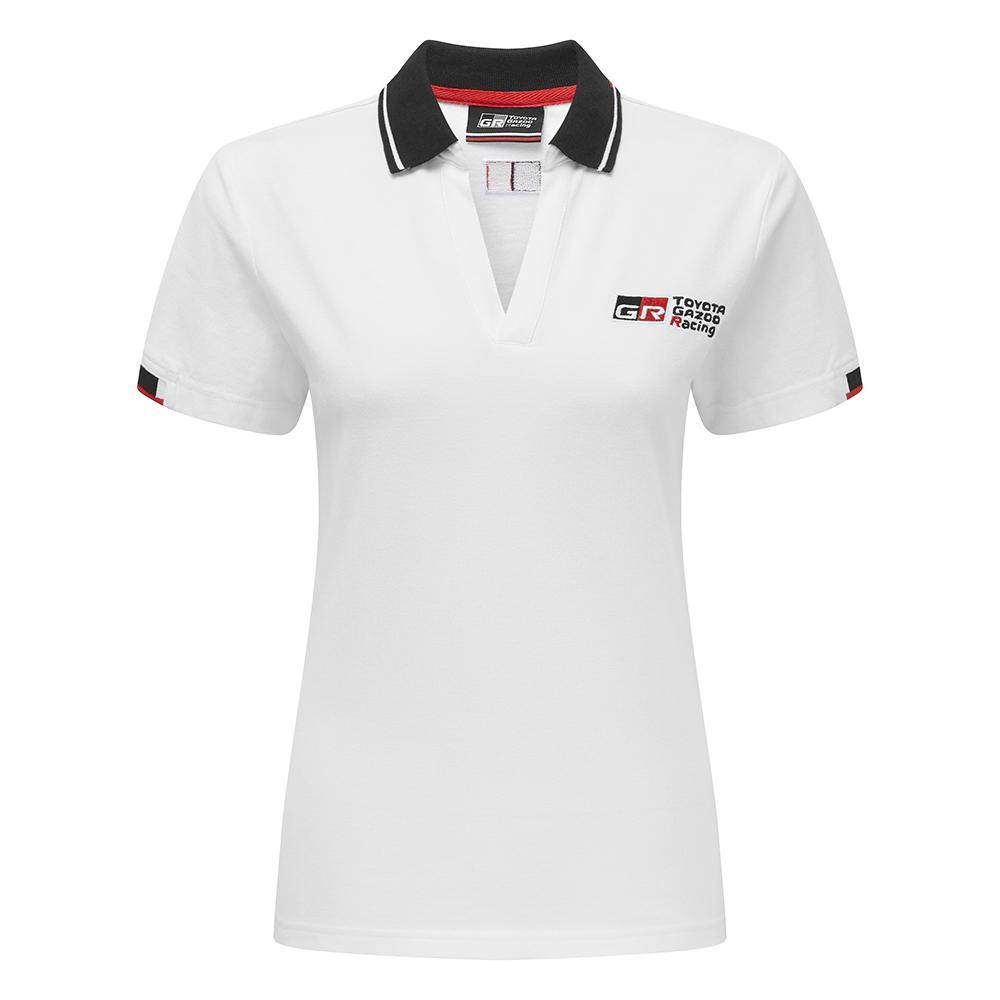T-Shirt: (121, 36, 908, 975)
